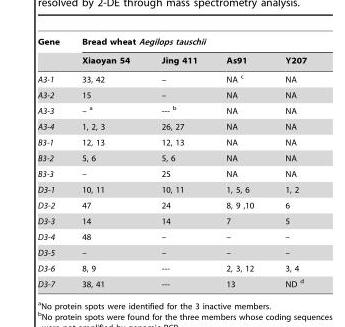table: (37, 37, 306, 288)
table column: (70, 37, 144, 288), (144, 37, 211, 288), (211, 37, 268, 288), (268, 37, 306, 288), (37, 37, 70, 288)
table column header: (37, 37, 306, 68)
table row: (37, 68, 306, 87), (37, 50, 306, 68), (37, 102, 306, 118), (37, 118, 306, 134), (37, 134, 306, 150), (37, 165, 306, 181), (37, 181, 306, 197), (37, 197, 306, 213), (37, 228, 306, 244), (37, 244, 306, 260), (37, 87, 306, 102), (37, 150, 306, 165), (37, 213, 306, 228), (37, 260, 306, 275), (37, 37, 306, 50), (37, 275, 306, 288)
table spanning cell: (70, 37, 306, 50), (37, 37, 70, 68)
